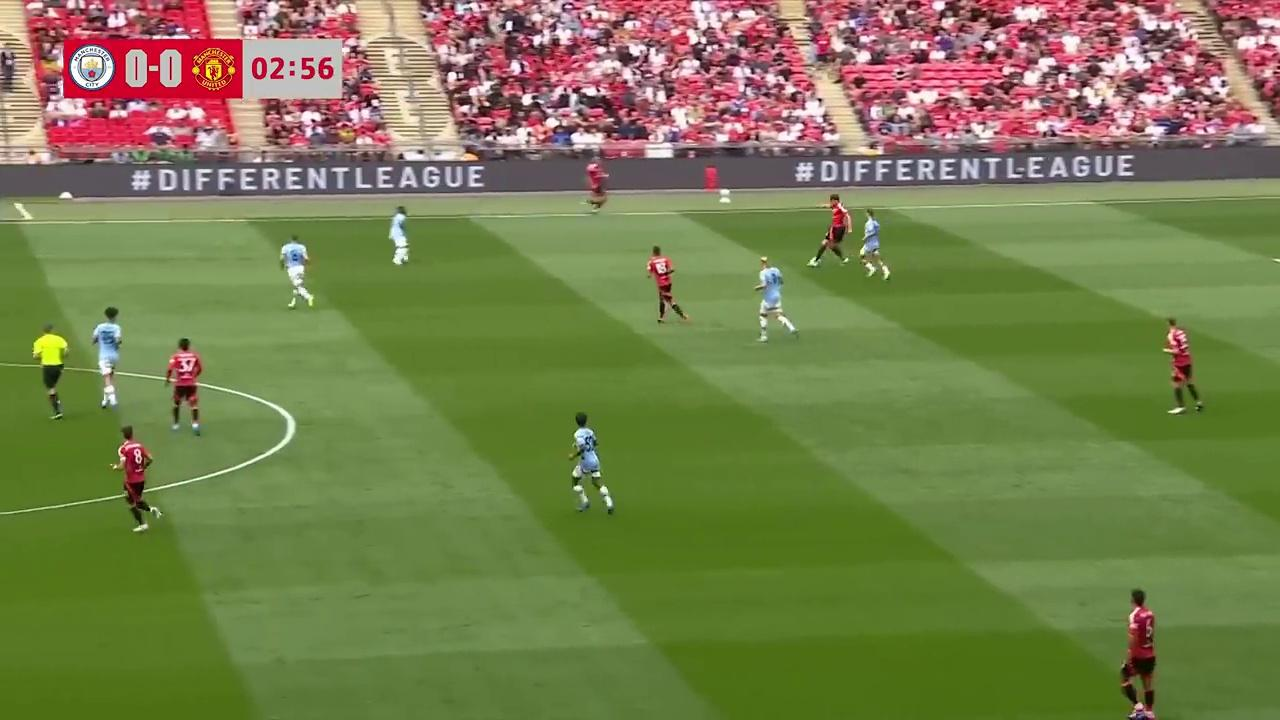player: (109, 425, 163, 531), (568, 412, 615, 515), (1121, 588, 1157, 719), (1162, 319, 1204, 414), (164, 337, 203, 434), (754, 257, 797, 343), (646, 245, 690, 324), (90, 307, 122, 409), (808, 194, 852, 267), (279, 234, 314, 309), (858, 209, 890, 281), (583, 160, 609, 214), (388, 205, 409, 266)
referee: (31, 323, 69, 420)
